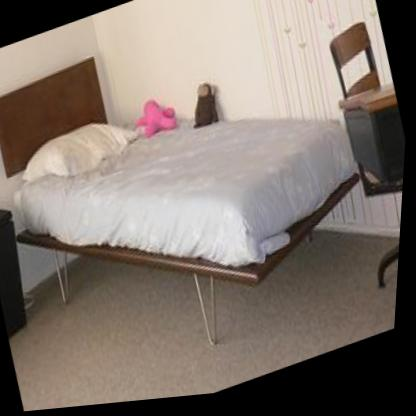Bed: (0, 0, 402, 412)
